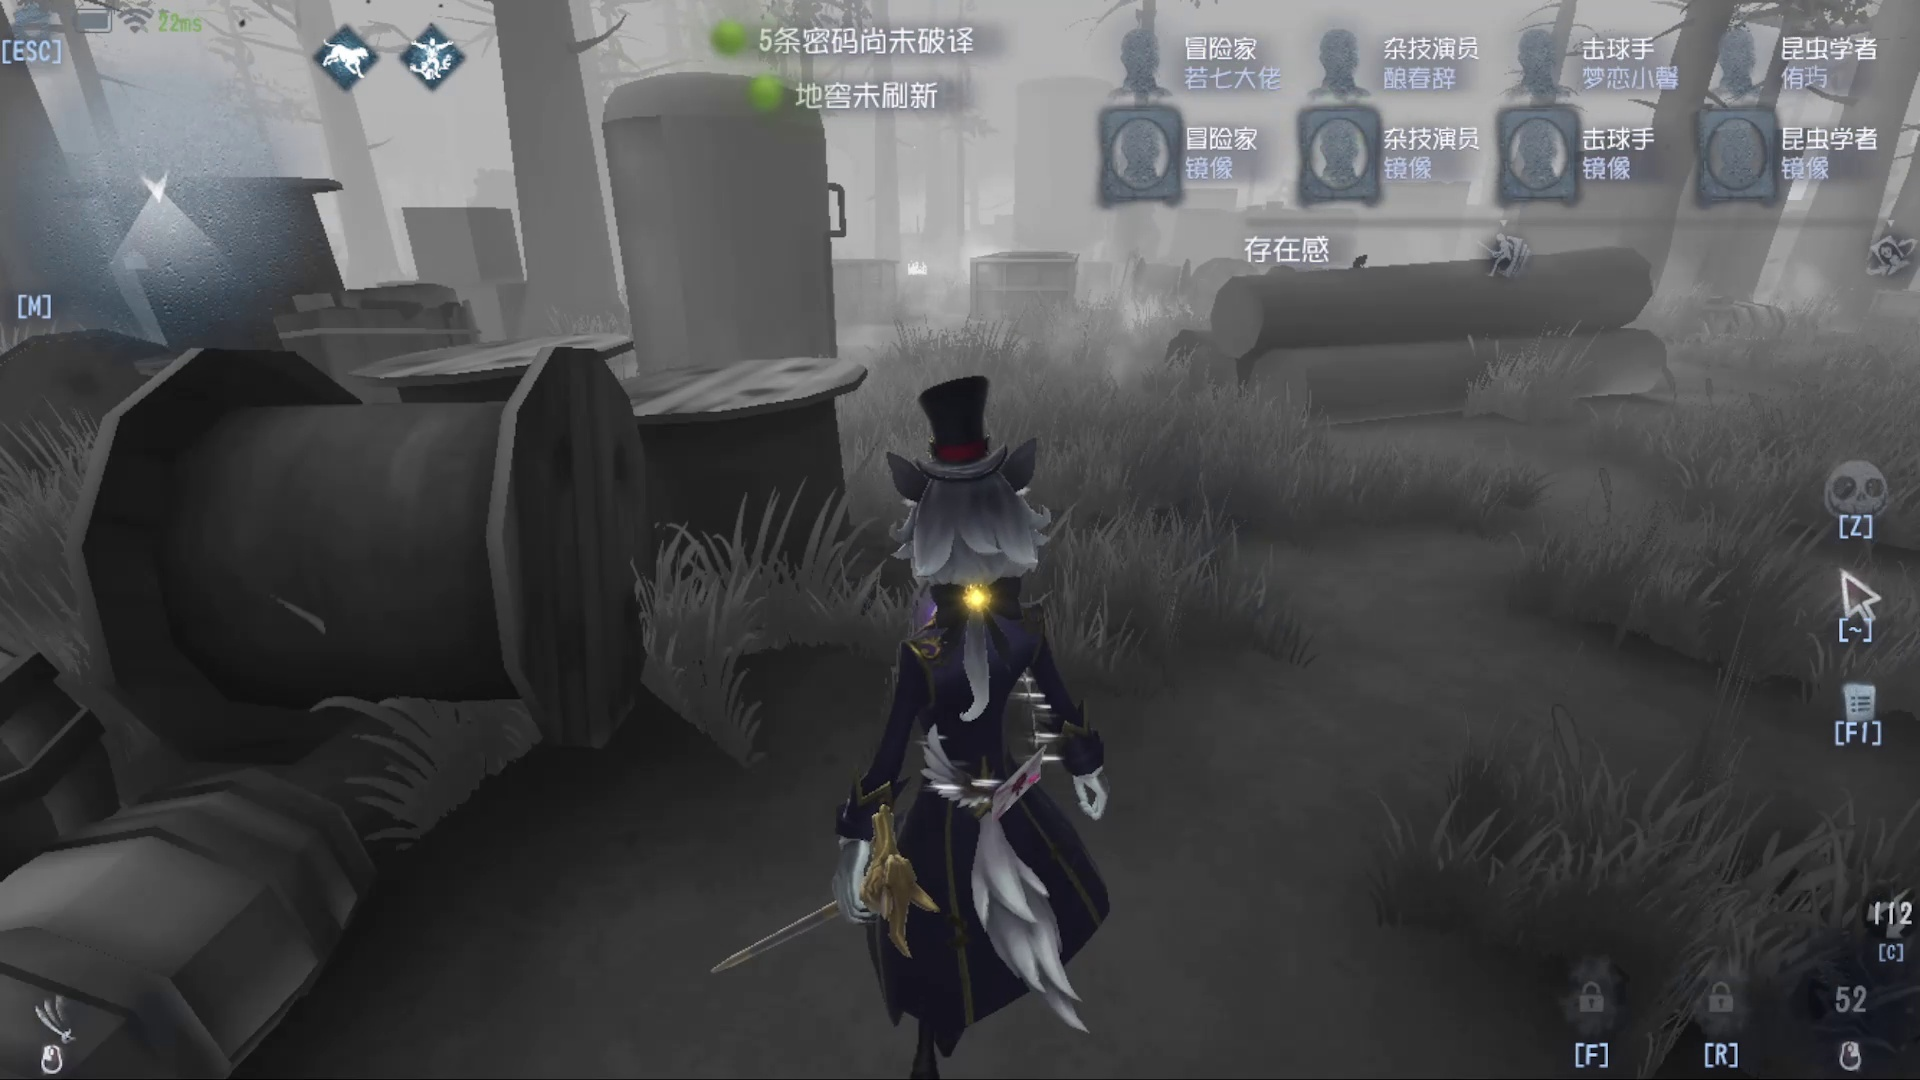密码机: (890, 200, 942, 277)
